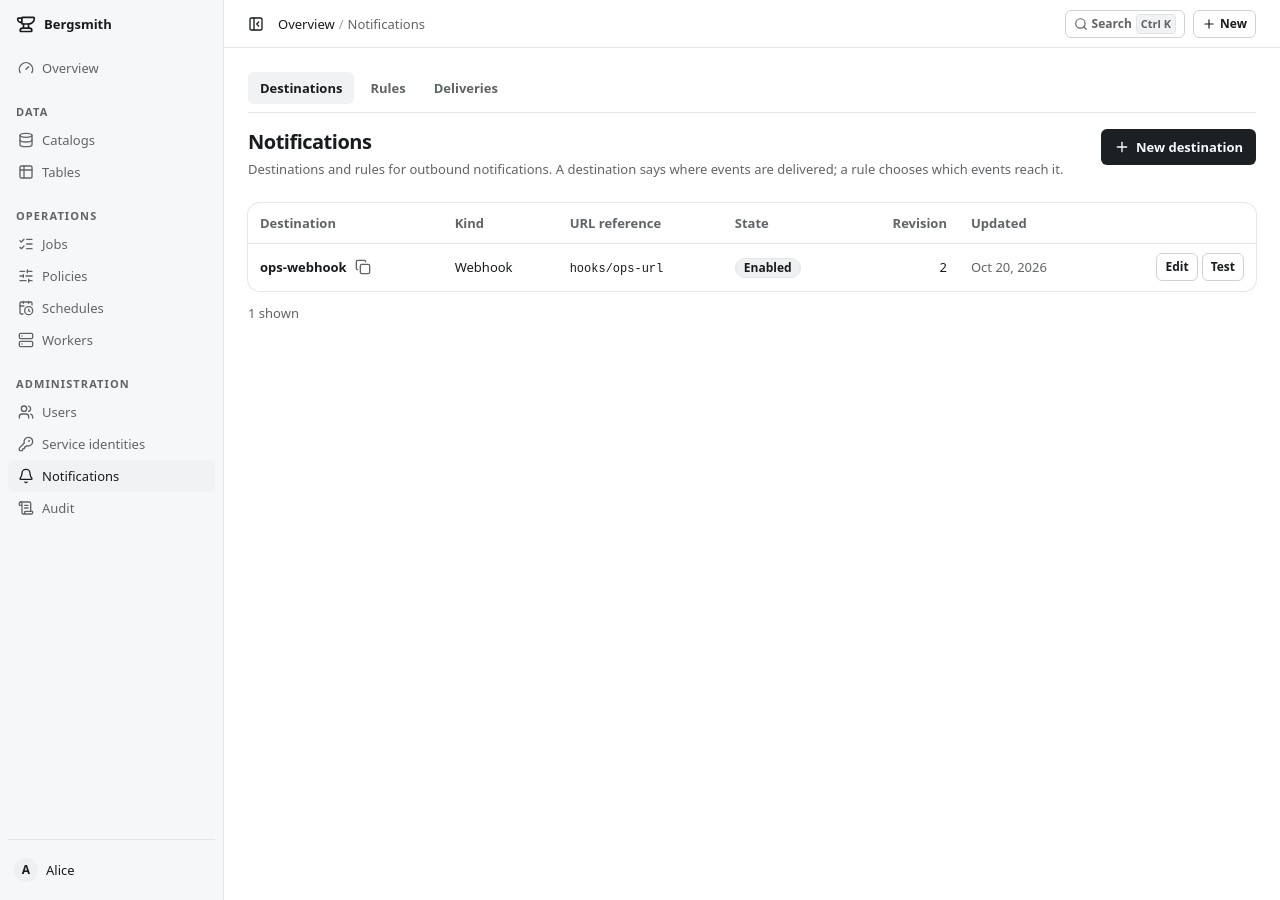
notification destinations › reports a refused test without showing the response body
Click the button with aria-label "Test ops-webhook".
click(1223, 267)  # box [1202,253,1244,281]
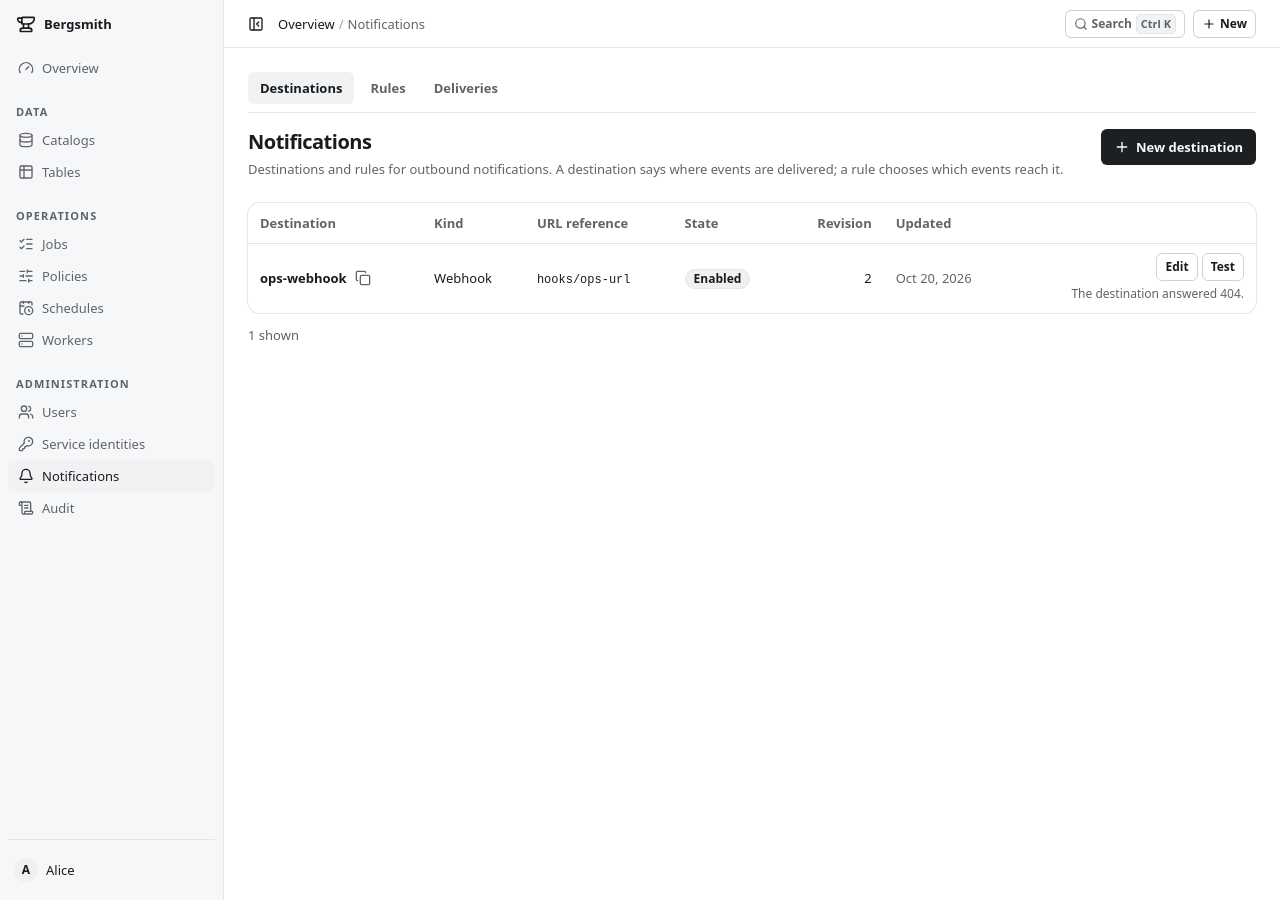
Check: the text "The destination answered 404." is shown, box [1071,285,1244,303]
